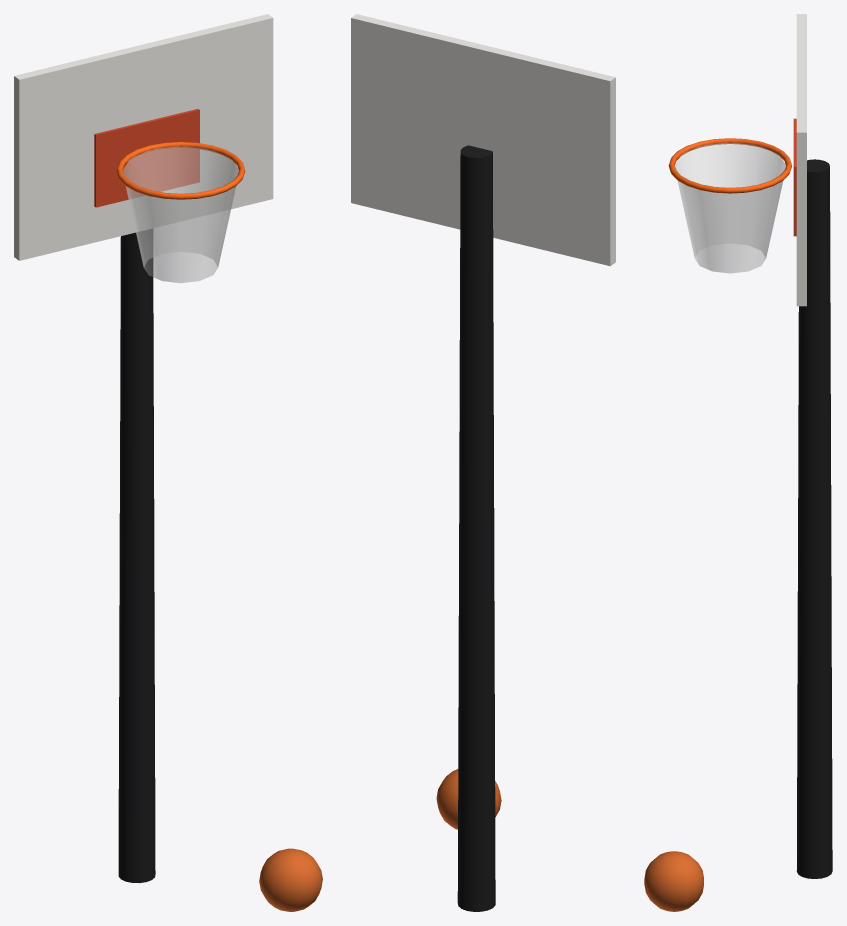
The model's file is hoop.glb.
3 views of the same model, side by side, from view 1: azimuth 30°, elevation 25°; view 2: azimuth 150°, elevation 25°; view 3: azimuth 270°, elevation 25° (orthographic). The views are drawn at different scales.
Parts seen in each view (by area): view 1: hoop; view 2: hoop; view 3: hoop.
Boxes of the visible parts, bbox=[...] form: hoop: bbox=[14, 14, 322, 911]; hoop: bbox=[351, 14, 615, 911]; hoop: bbox=[644, 14, 832, 911].
Size of the model in its own units: 1.1 by 3.45 by 0.737.
2 materials, 2 textured.
